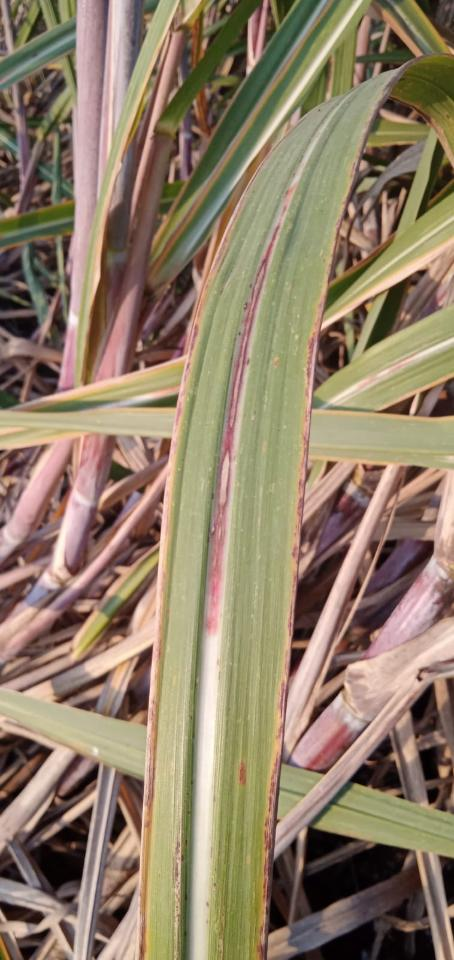RedRot: (203, 184, 296, 641)
Rust: (171, 834, 190, 934), (142, 699, 157, 819)
